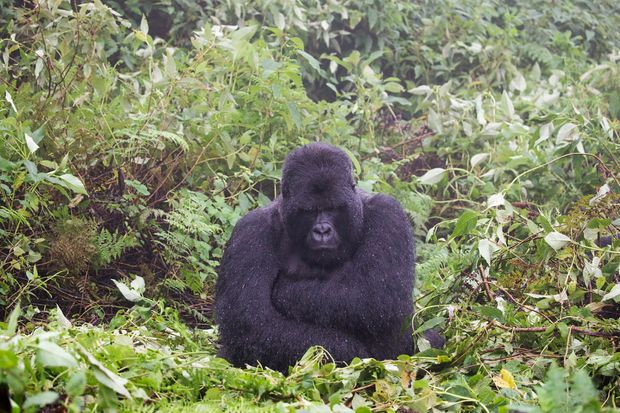Gorilla: (233, 138, 413, 368)
